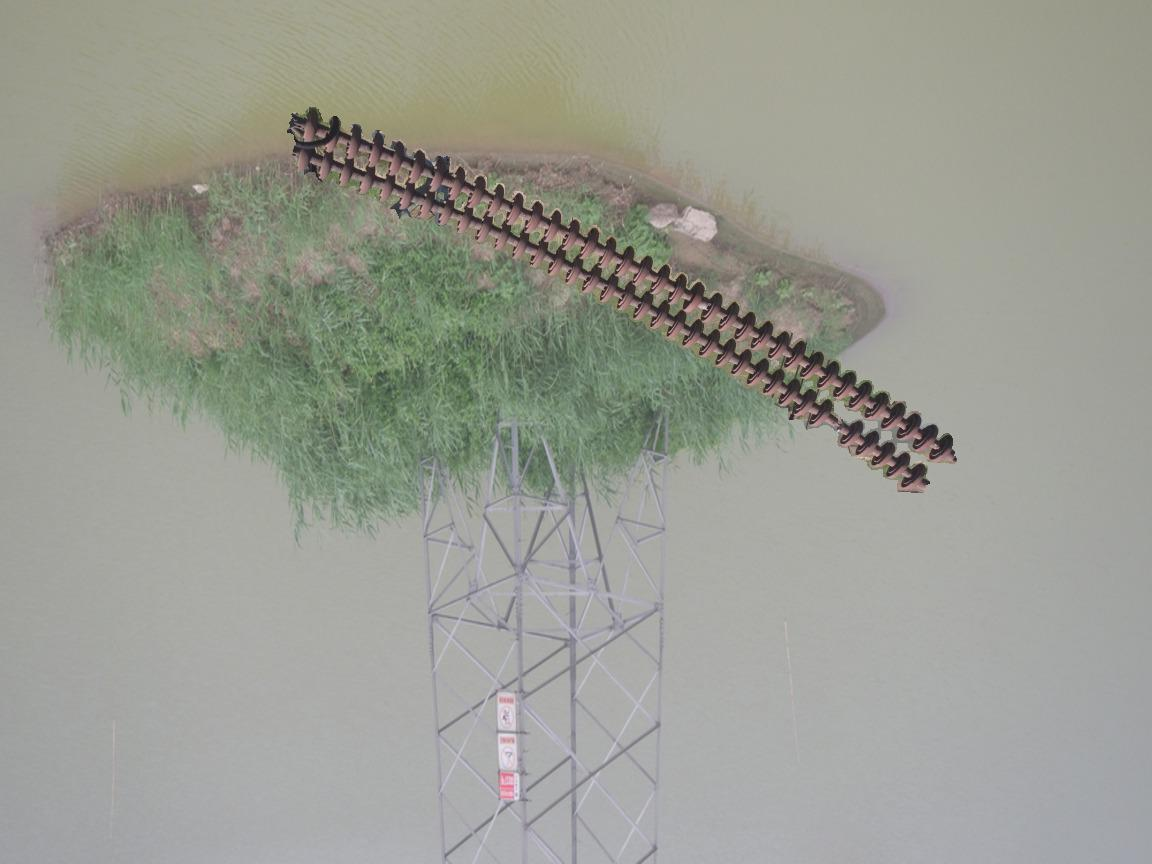insulator: (290, 103, 967, 500)
insulator_stringdrop: (806, 397, 866, 450)
